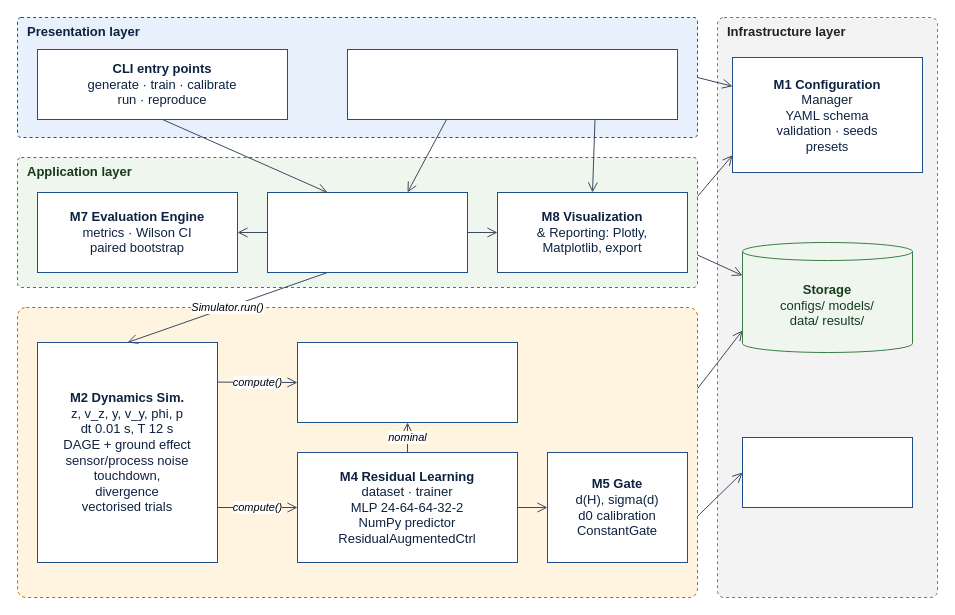
Some shapes in this 955 by 615 pixel diagram are drawn without their labels. Here are the shapes that lost their labels. From the top down, the box of each, then its label:
(346, 48, 678, 120): M9 User Interface (Streamlit) Setup · Simulation · Comparison Results & Analysis
(266, 192, 468, 272): M6 Experiment Runner plans · randomiser paired seeds · batches
(296, 342, 518, 422): M3 Baseline Controllers PD · PID · PID+DOB Controller interface
(16, 306, 698, 598): Domain layer
(742, 436, 912, 508): Logging run.log, manifest.json
